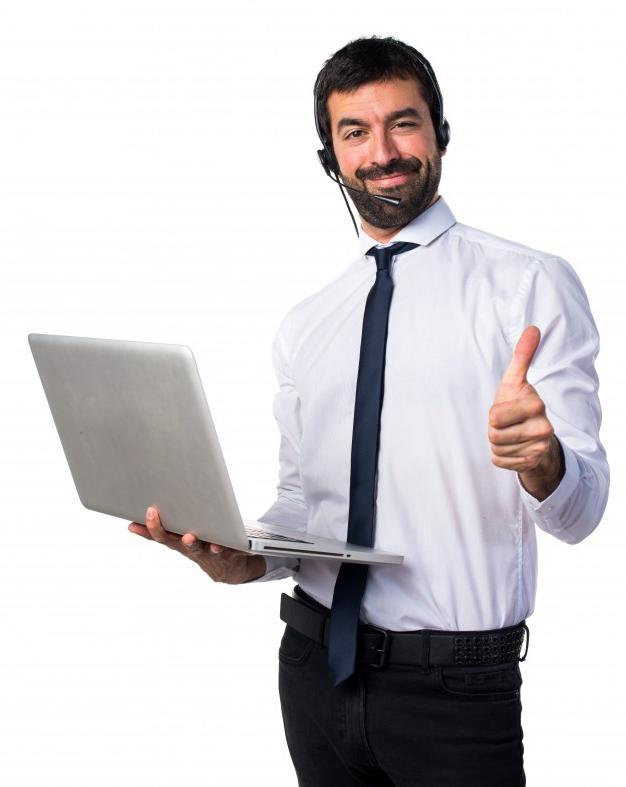thumbsup: (488, 325, 554, 472)
